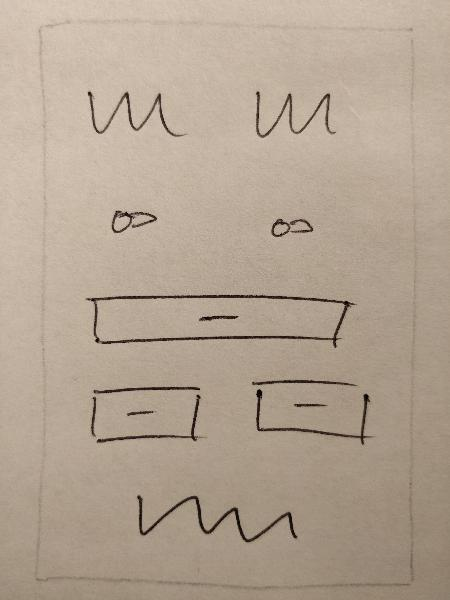button: (77, 286, 357, 360), (245, 370, 374, 452), (84, 377, 211, 451)
switch: (256, 206, 325, 252), (99, 198, 170, 241)
text: (119, 479, 305, 550), (79, 79, 192, 152), (242, 79, 341, 148)
